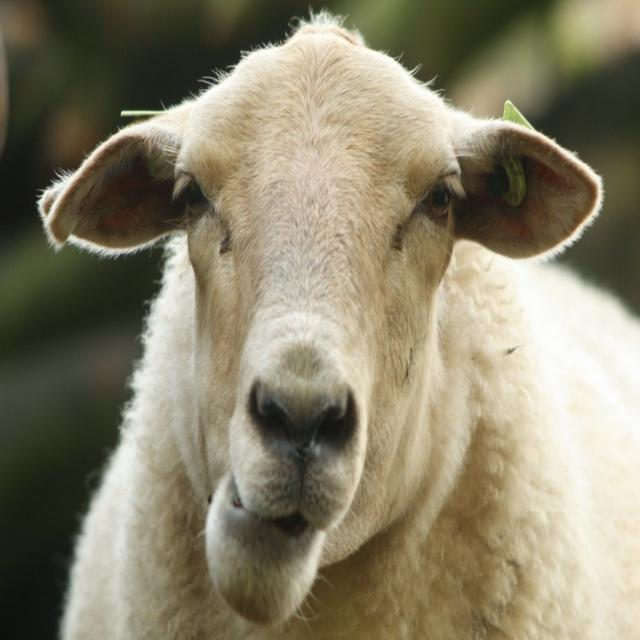Sheep: (32, 0, 639, 639)
